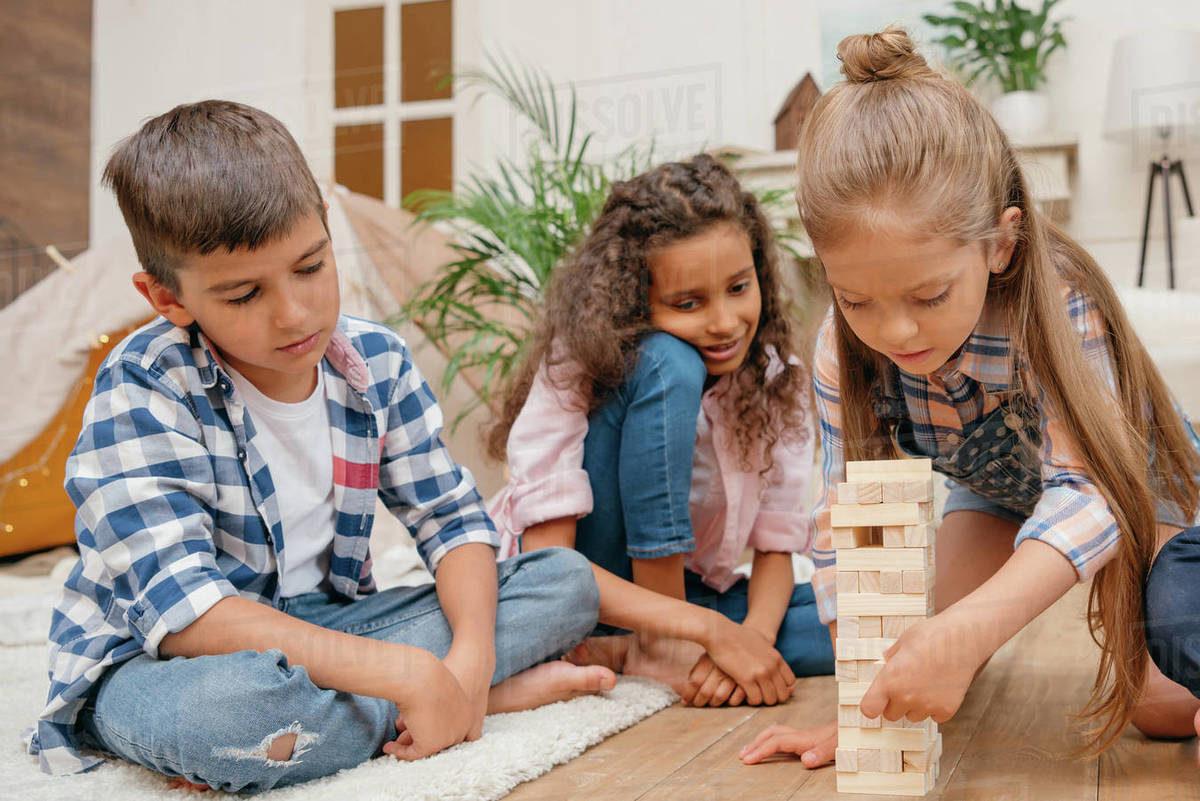human: (45, 76, 645, 786), (759, 31, 1200, 786), (501, 133, 849, 732)
